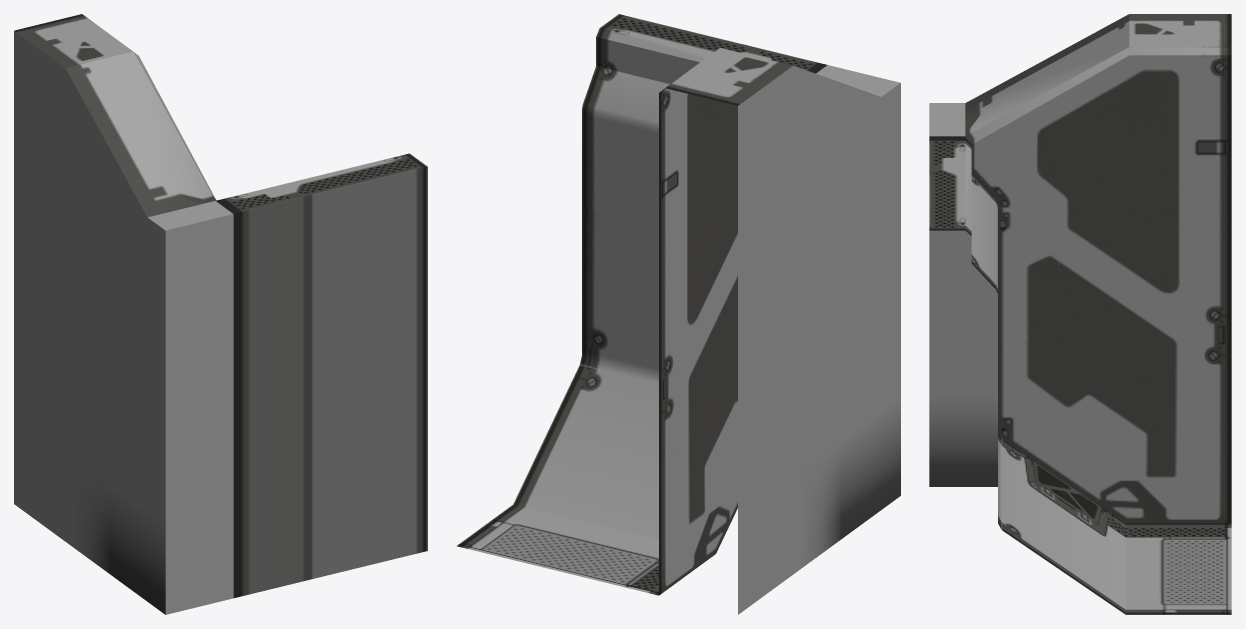
The model's file is A_End_L_2x2.FBX.
3 renders of one model, left to right at view 1: azimuth 30°, elevation 25°; view 2: azimuth 150°, elevation 25°; view 3: azimuth 270°, elevation 25°, orthographic. The views are drawn at different scales.
Parts seen in each view (by area): view 1: A_End_L_2x2; view 2: A_End_L_2x2; view 3: A_End_L_2x2.
Part boxes in pixels (bbox=[...]): A_End_L_2x2: bbox=[14, 14, 427, 614]; A_End_L_2x2: bbox=[456, 14, 900, 614]; A_End_L_2x2: bbox=[929, 14, 1231, 614].
Size of the model in its own units: 200 by 345 by 200.
